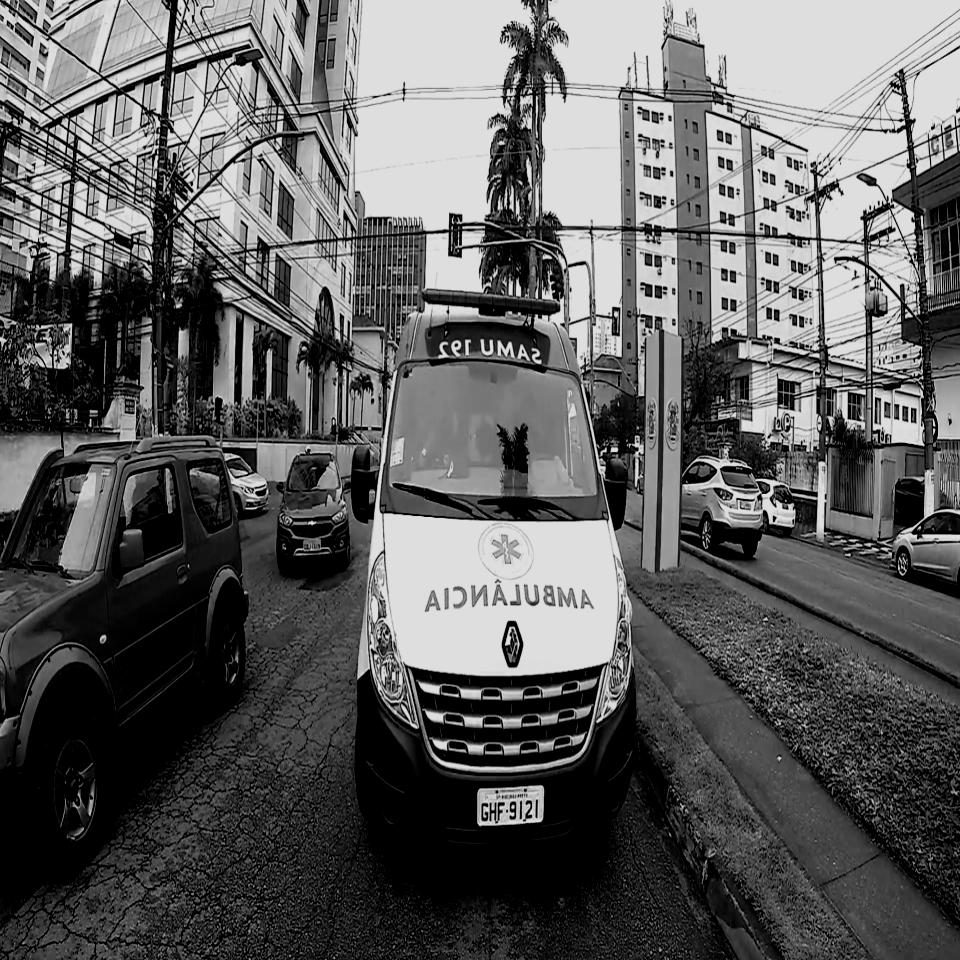ambulancia: (351, 287, 640, 888)
